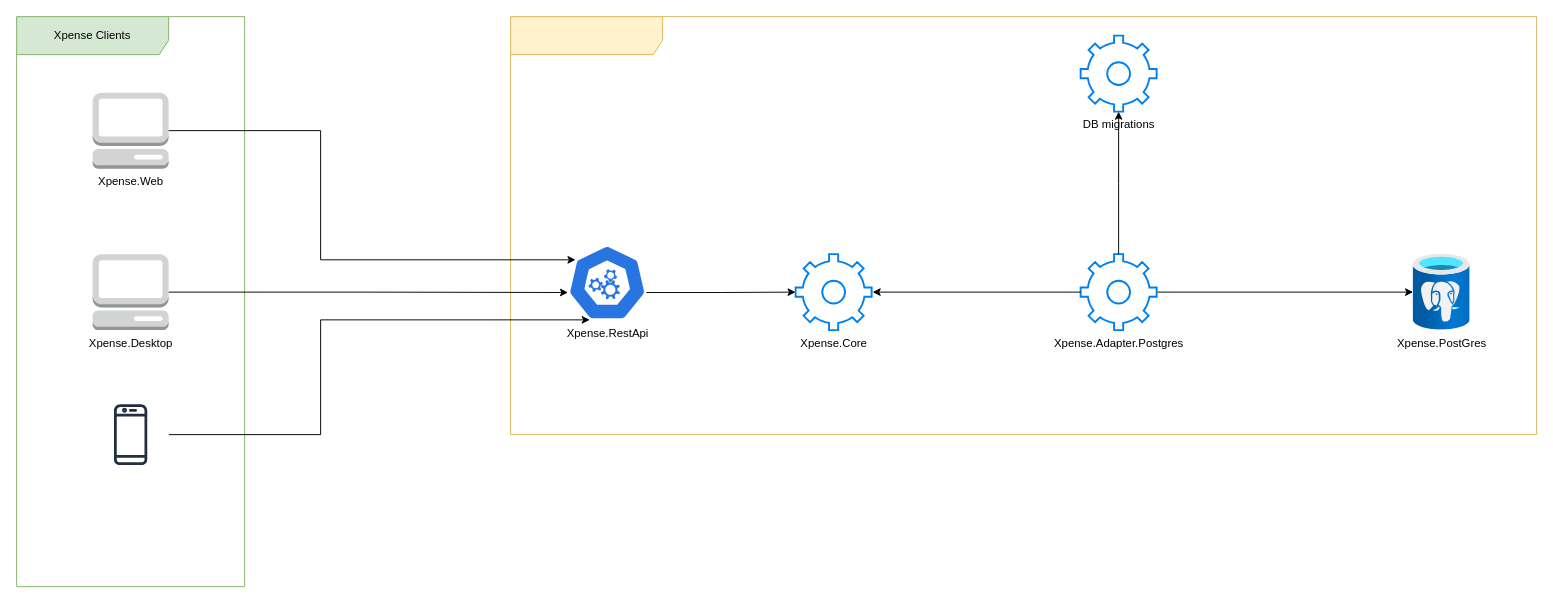
The diagram is 1553 pixels wide and 603 high, and some of its shapes have lost their labels. Each missing label, with the centre of its shape:
Xpense System Space: point (1023, 225)
Xpense.Mobile: point (130, 434)
